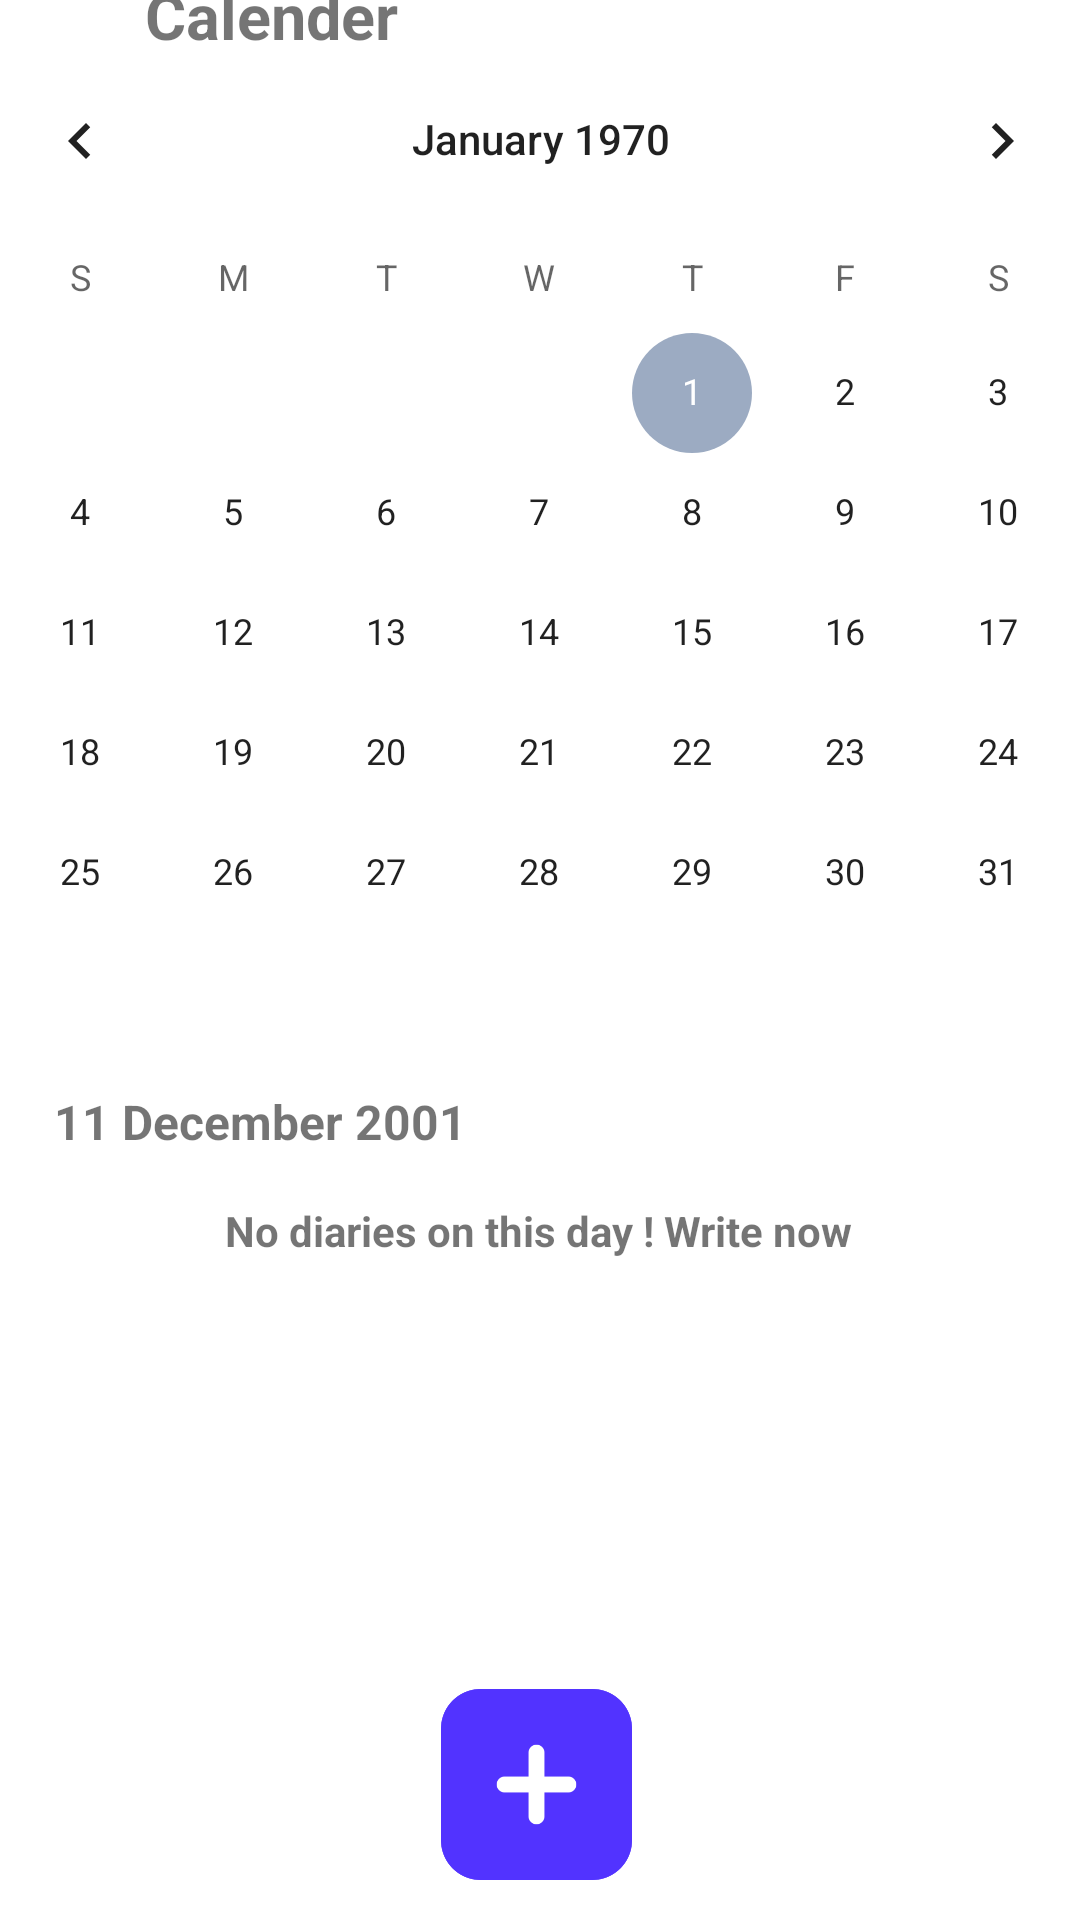

Named icons in this screenshot (1080px x 1920px) and their centers, point (x, y):
add: point (536, 1784)
